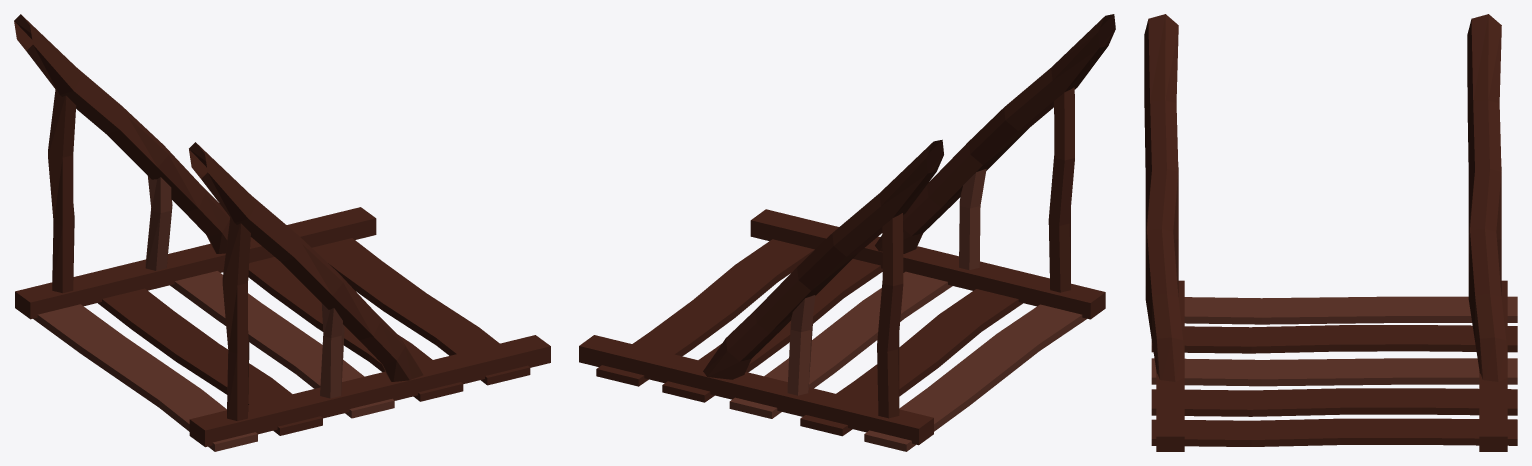
File: 4seasons_bridge_base.fbx
3 views of the same model, side by side, from view 1: azimuth 30°, elevation 25°; view 2: azimuth 150°, elevation 25°; view 3: azimuth 270°, elevation 25° (orthographic). The views are drawn at different scales.
Visible parts, largest first — view 1: 4seasons_bridge_base; view 2: 4seasons_bridge_base; view 3: 4seasons_bridge_base.
Part boxes in pixels (x1,y1,x2,y2): 4seasons_bridge_base: [14, 14, 550, 451]; 4seasons_bridge_base: [579, 14, 1115, 451]; 4seasons_bridge_base: [1144, 14, 1517, 451].
Bounding box in the file's own units: 171 × 143 × 171.
